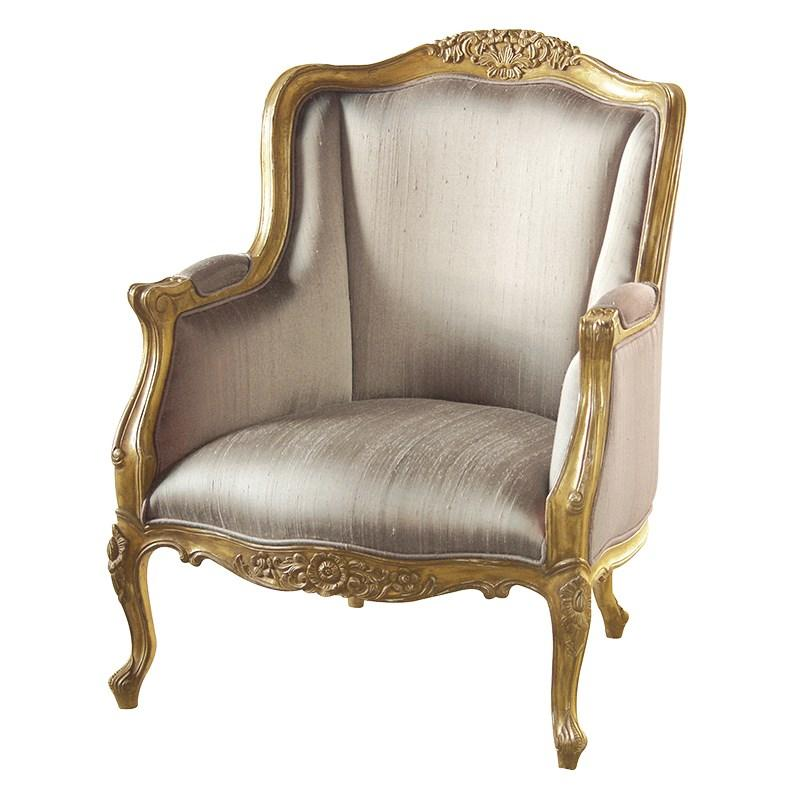Carving Chair: (111, 56, 701, 753)
